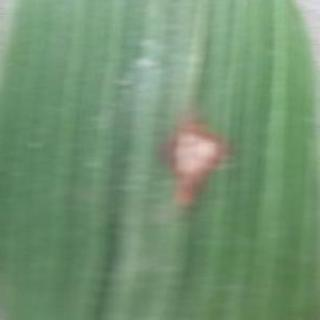Blast: (148, 113, 246, 217)
